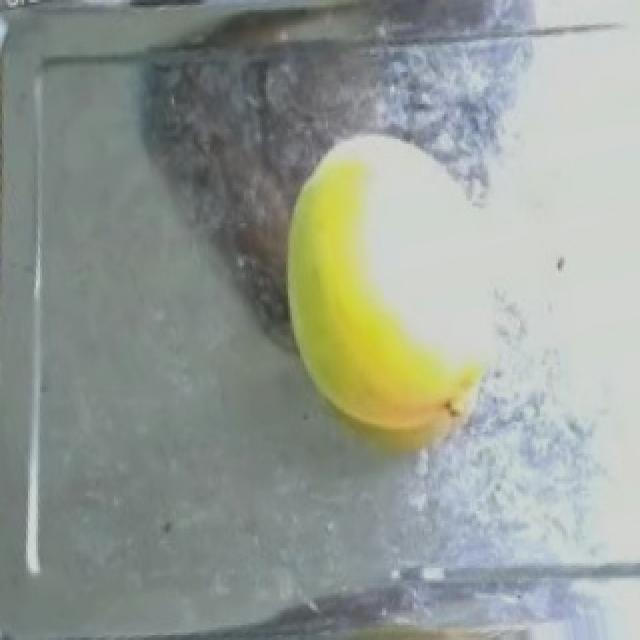fruit: (262, 112, 462, 459)
